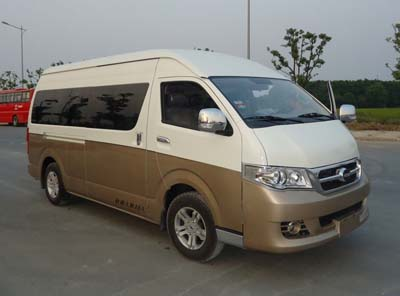midcar: (21, 55, 377, 266)
